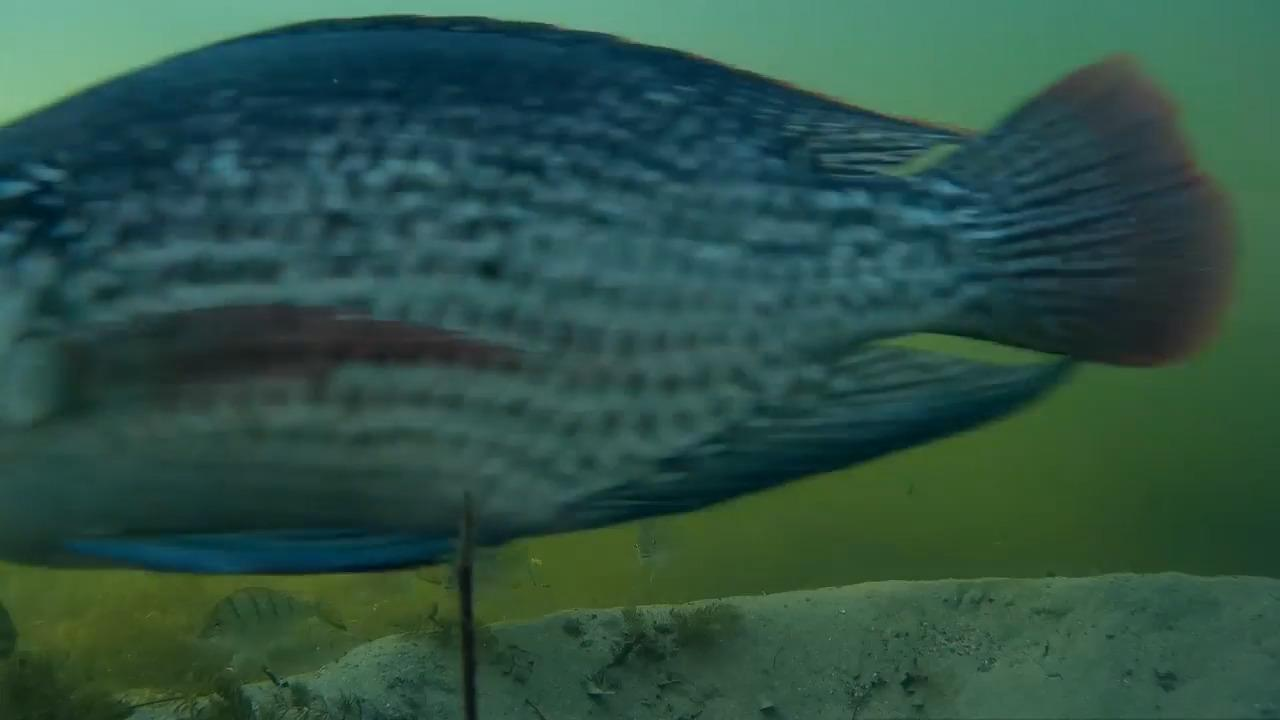Tilapia: (0, 0, 1244, 602), (188, 584, 369, 672), (620, 502, 713, 620)
